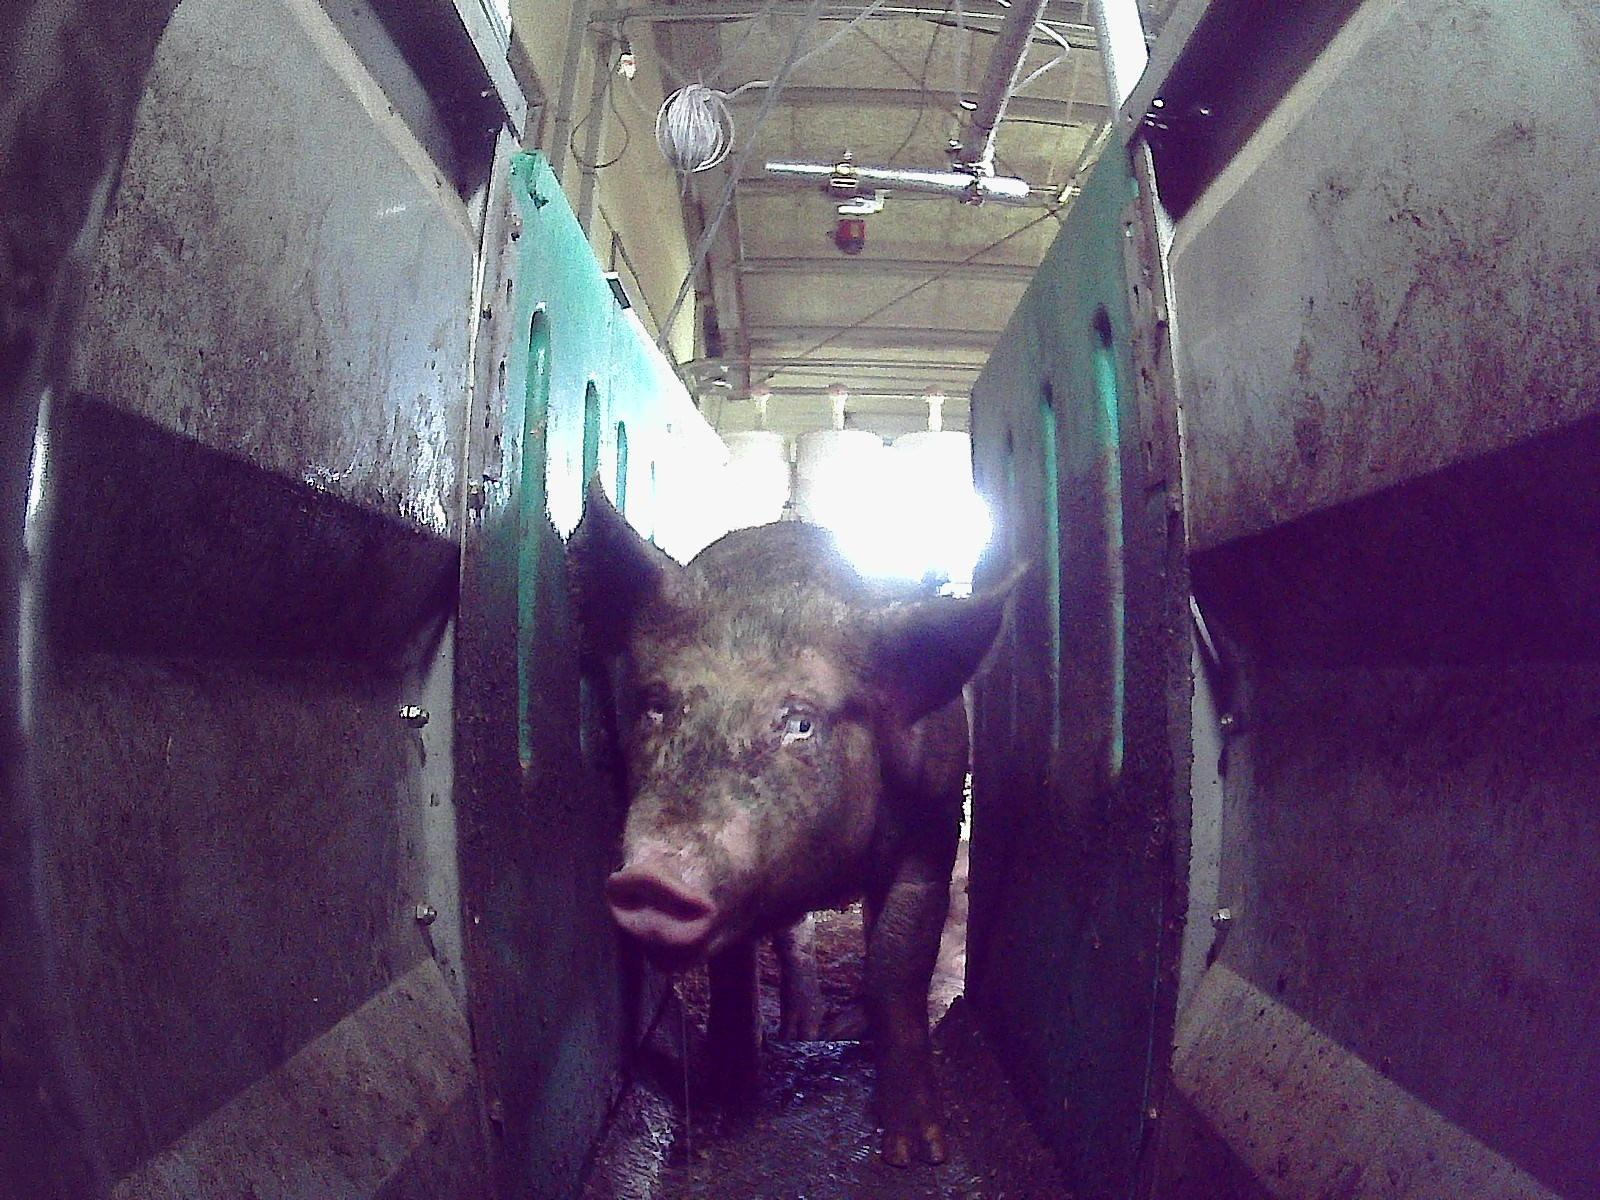Face: (601, 598, 874, 956)
